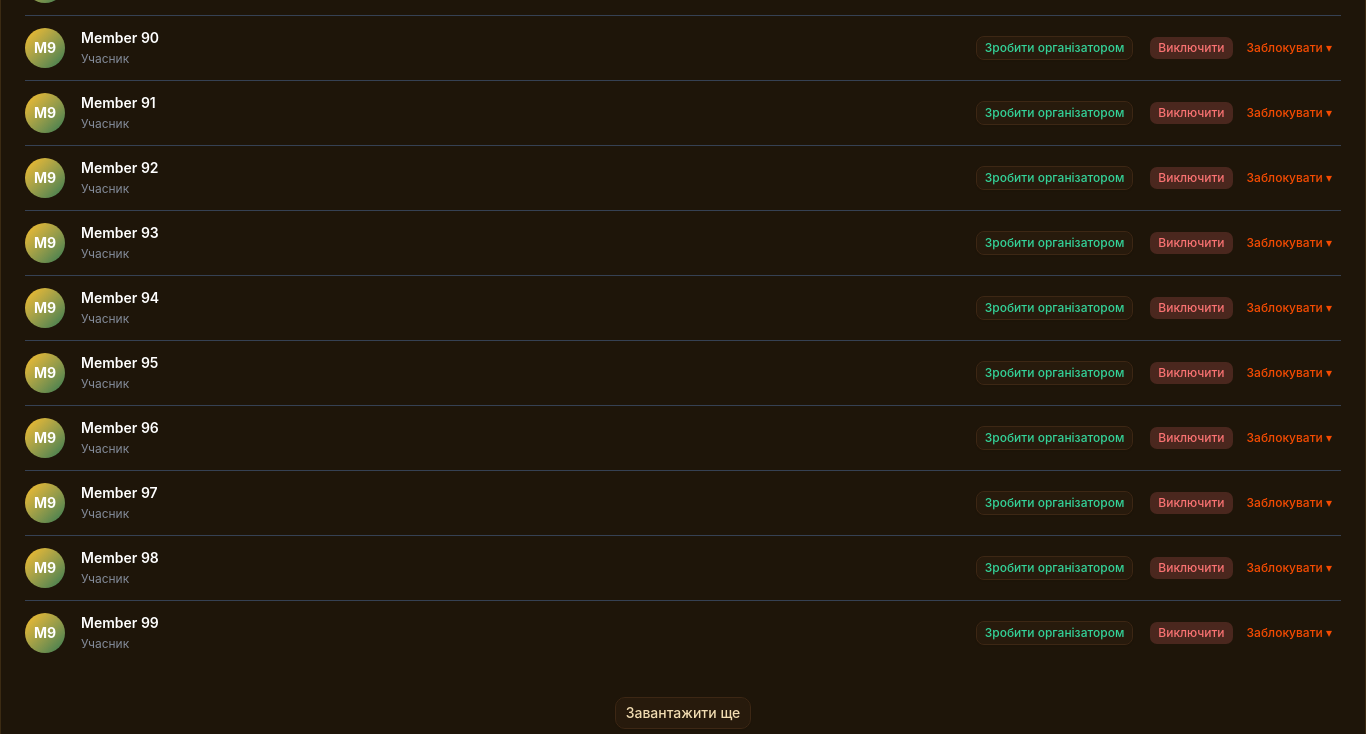
Test: MemberList with role controls › keeps the rows of a later page after a kick and the refetch that follows it
(page scrolled)
Click the button "Завантажити ще": (683,713) [615,697,751,729]
(page scrolled)
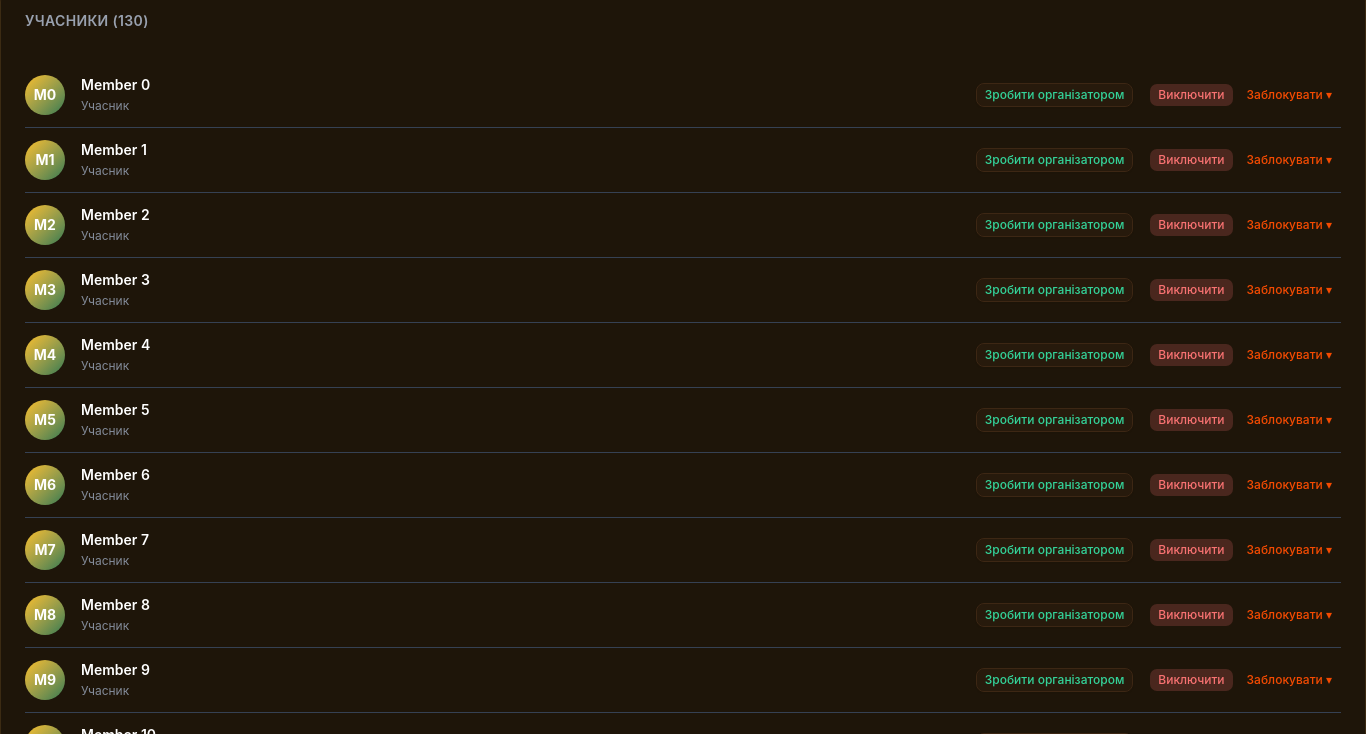
Click the 2nd button "Виключити": (1191,160) [1149,148,1234,172]
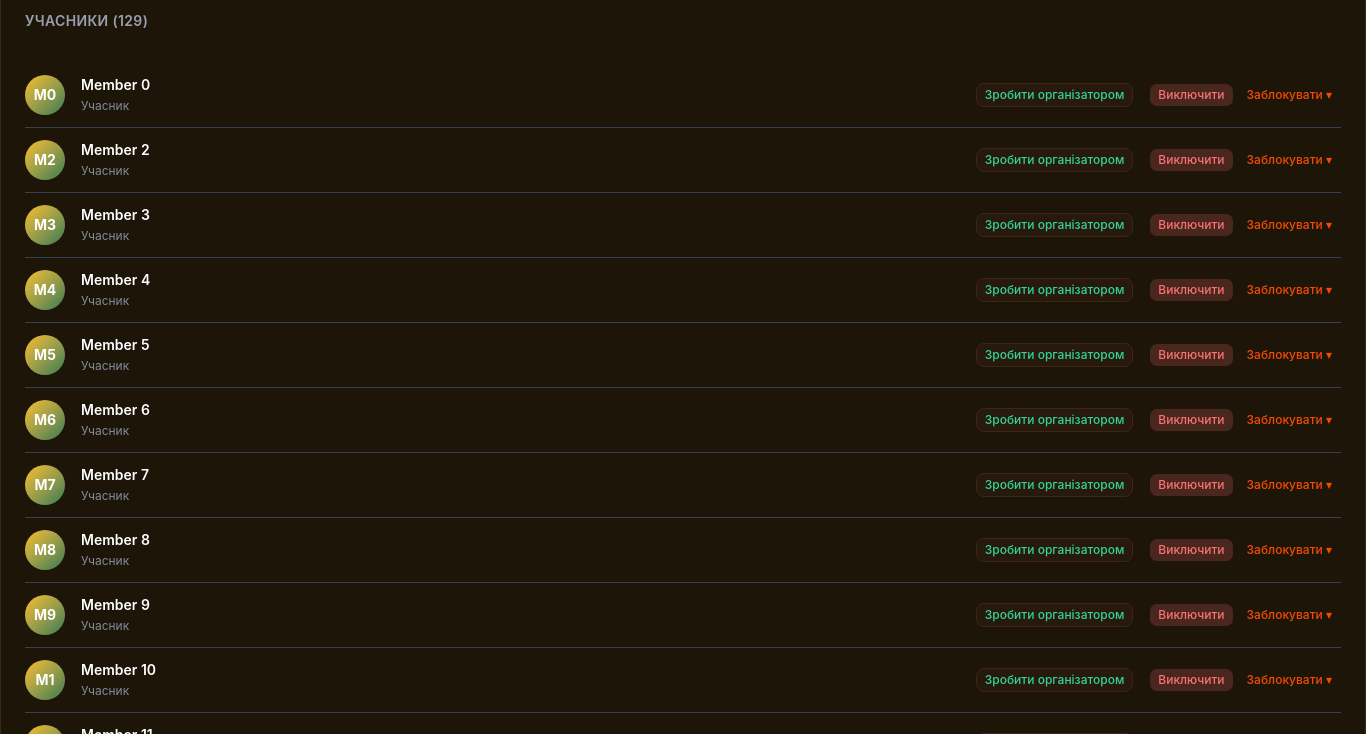
Expected: the heading "Учасники (129)" is shown, [25,12,148,29]
